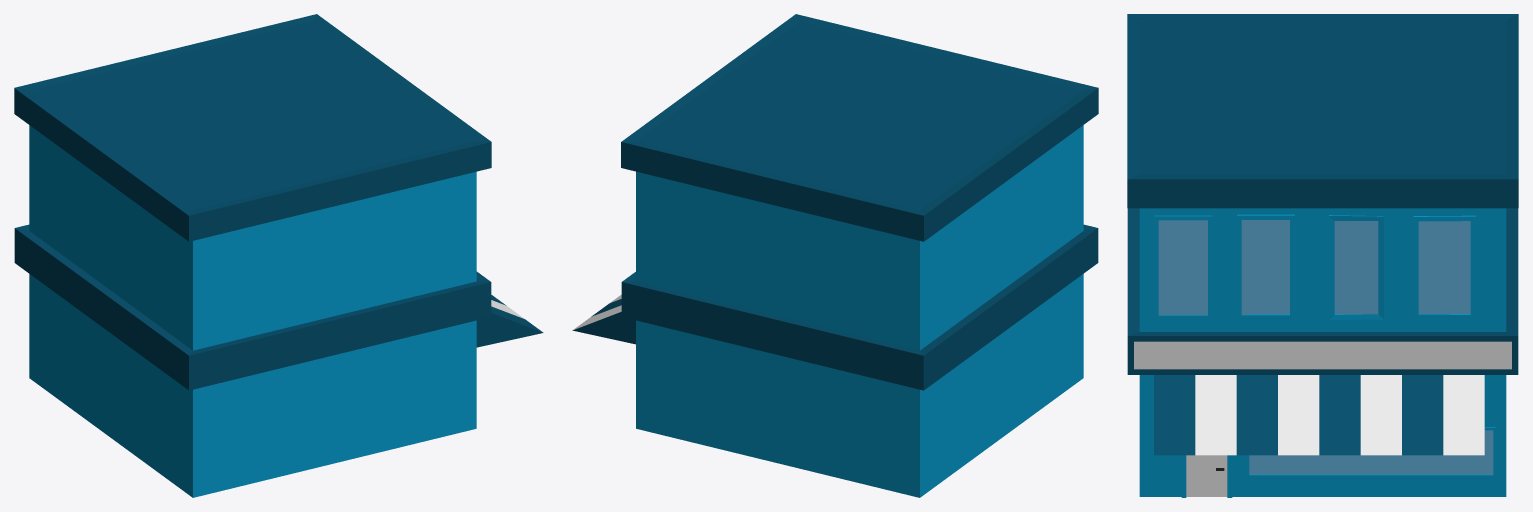
Rendered from blue shop.fbx.
3 views of the same model, side by side, from view 1: azimuth 30°, elevation 25°; view 2: azimuth 150°, elevation 25°; view 3: azimuth 270°, elevation 25° (orthographic). The views are drawn at different scales.
Parts seen in each view (by area): view 1: Cube; view 2: Cube; view 3: Cube.
Part boxes in pixels (x1=…): Cube: x1=14, y1=14, x2=543, y2=497; Cube: x1=572, y1=14, x2=1098, y2=497; Cube: x1=1127, y1=14, x2=1518, y2=497.
Size of the model in its own units: 259 by 194 by 213.
